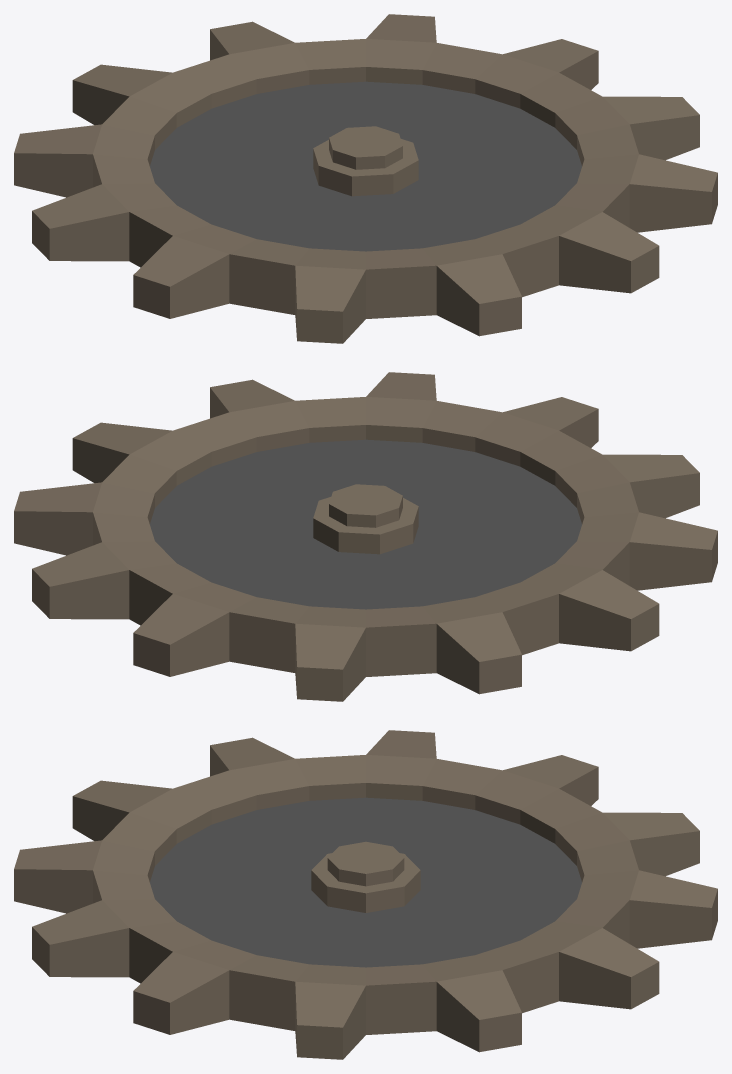
Rendered from steampunk_cog.fbx.
3 renders of one model, top to bottom at view 1: azimuth 30°, elevation 25°; view 2: azimuth 150°, elevation 25°; view 3: azimuth 270°, elevation 25°, orthographic.
Parts seen in each view (by area): view 1: Cylinder; view 2: Cylinder; view 3: Cylinder.
Part boxes in pixels (x1,y1,x2,y2): Cylinder: (14, 14, 717, 343); Cylinder: (14, 372, 717, 701); Cylinder: (14, 730, 717, 1059).
Size of the model in its own units: 2.58 by 0.3 by 2.58.
